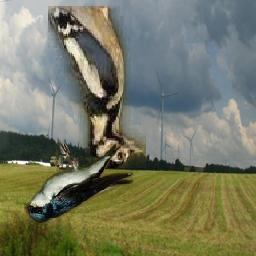Swallow: (24, 139, 136, 224)
Woodpecker: (48, 6, 146, 168)
